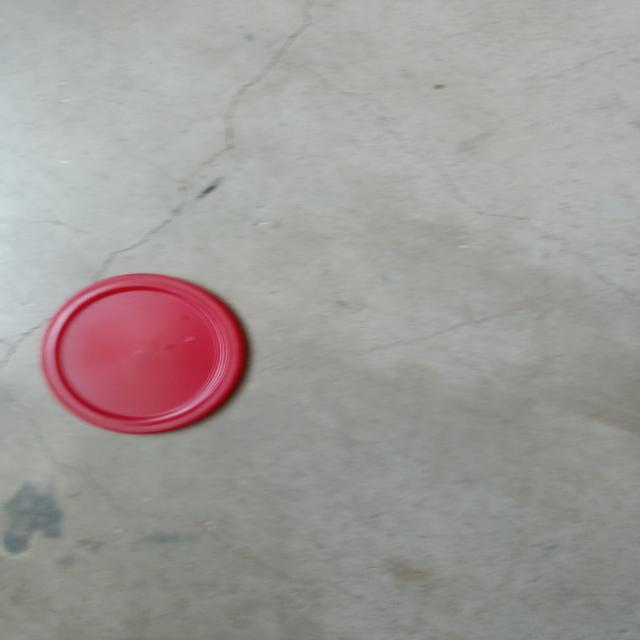chip: (31, 271, 257, 441)
